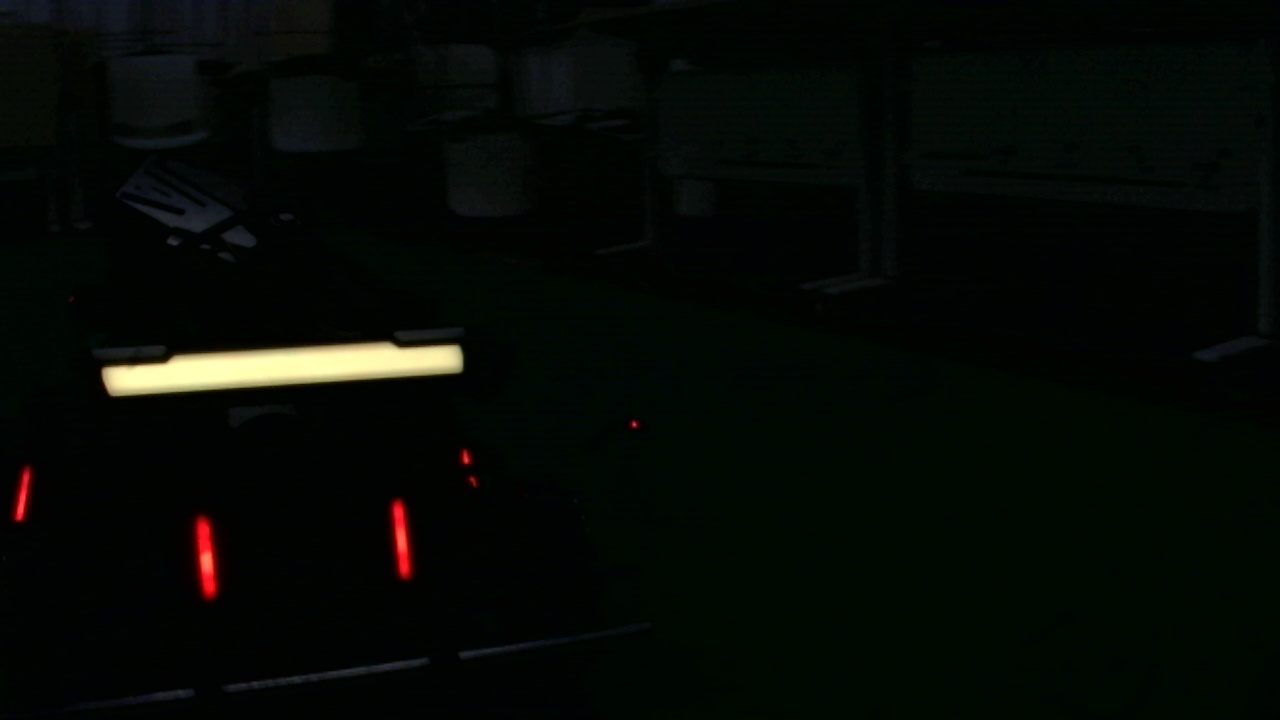lamp: (189, 511, 220, 600), (389, 497, 411, 576), (12, 460, 31, 520)
notpair1: (17, 464, 222, 598)
pair1: (195, 499, 413, 595)
